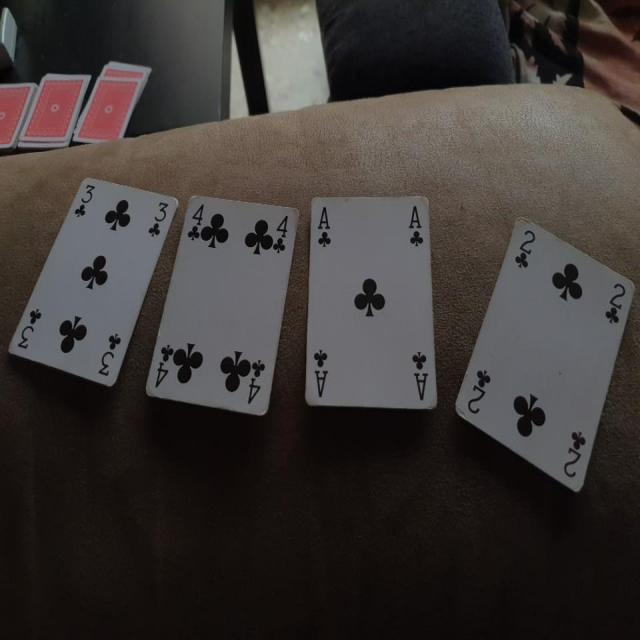2 Trefoils: (453, 216, 636, 493)
3 Trefoils: (6, 177, 179, 390)
4 Trefoils: (143, 196, 300, 418)
A Trefoils: (302, 193, 438, 412)
